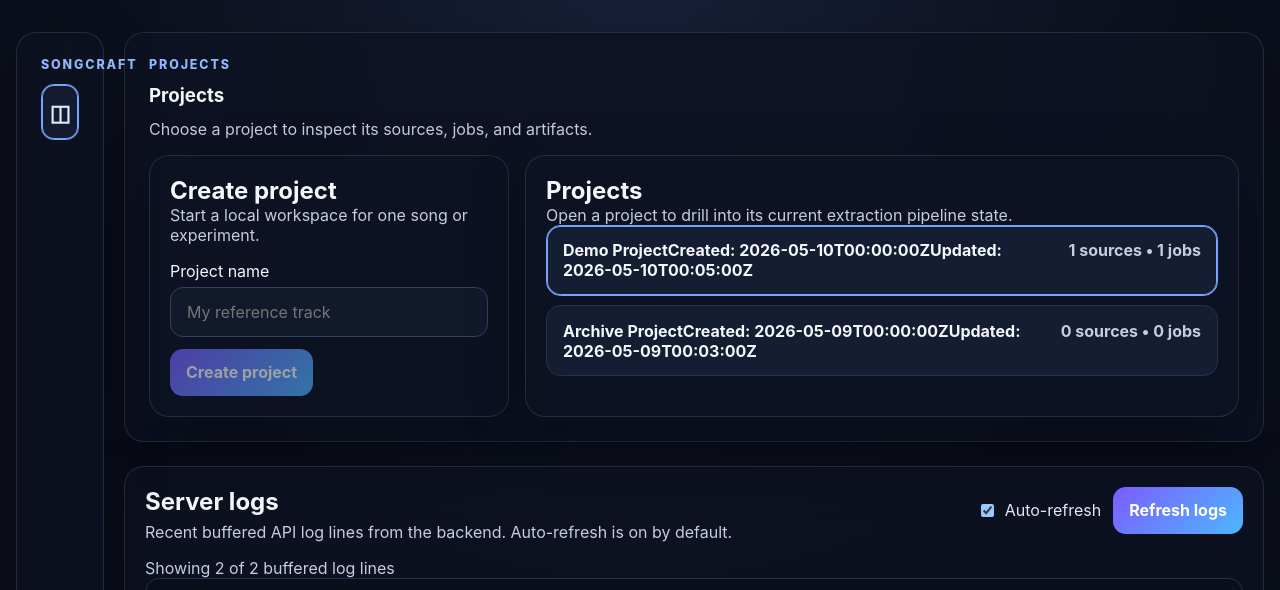
App › drills into project details and returns to the projects list
The width and height of the screenshot is (1280, 590).
Click the button with aria-label "Open project Demo Project" at (882, 260), box top-left (546, 225), bottom-right (1218, 296)
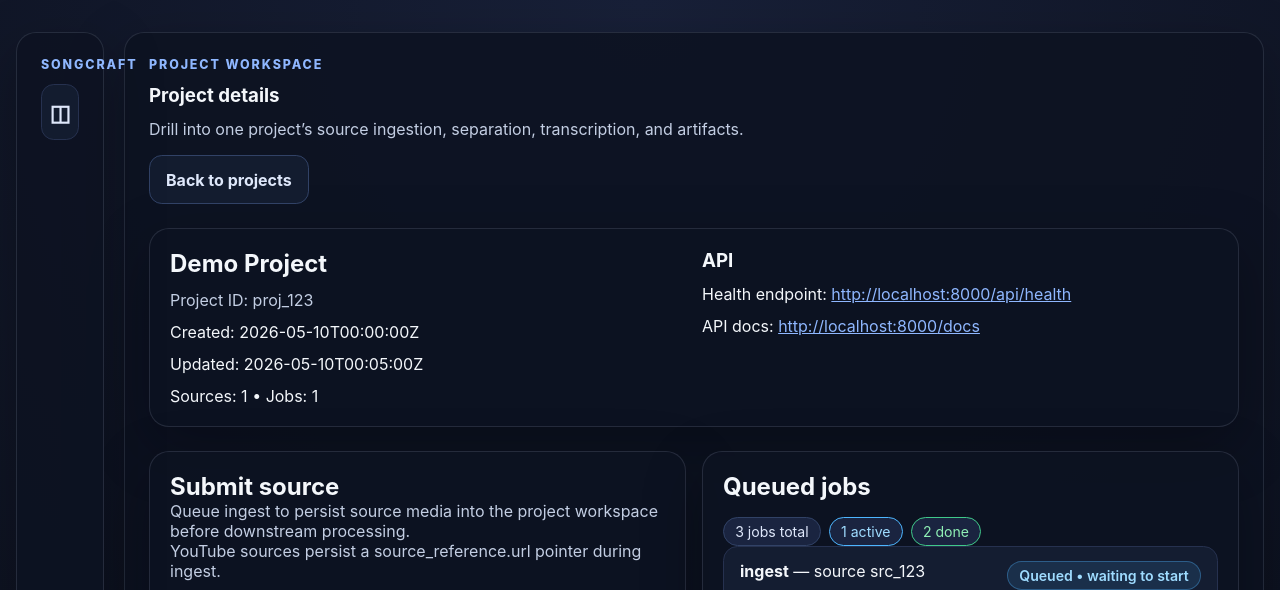
Expected: the heading "Project details" is shown, top-left (149, 84), bottom-right (280, 107)
Expected: the button "Back to projects" is shown
Expected: the text "Project ID: proj_123" is shown, top-left (170, 290), bottom-right (313, 310)
Click the button "Back to projects" at (229, 180), box top-left (149, 155), bottom-right (309, 204)
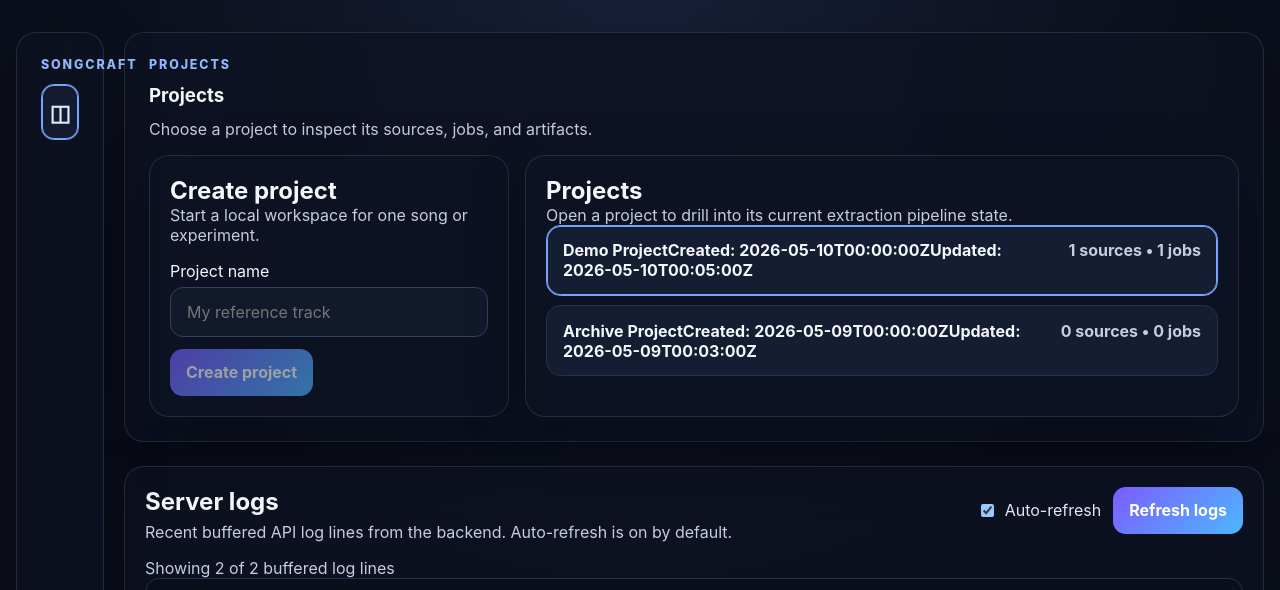
Expected: the 1st heading "Projects" is shown, top-left (149, 84), bottom-right (224, 107)
Expected: the text "Choose a project to inspect its sources, jobs, and artifacts." is shown, top-left (149, 119), bottom-right (592, 139)
Expected: the heading "Project details" is gone
